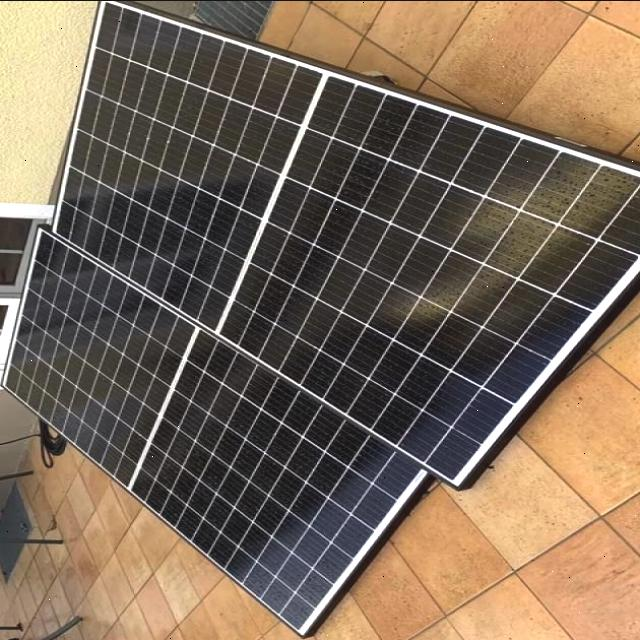Normal Solar Panel: (4, 1, 640, 635)
